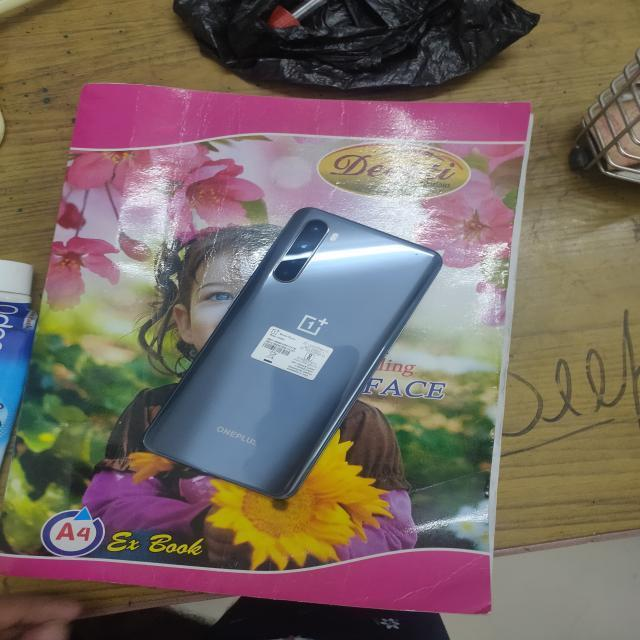Phone: (138, 205, 447, 500)
